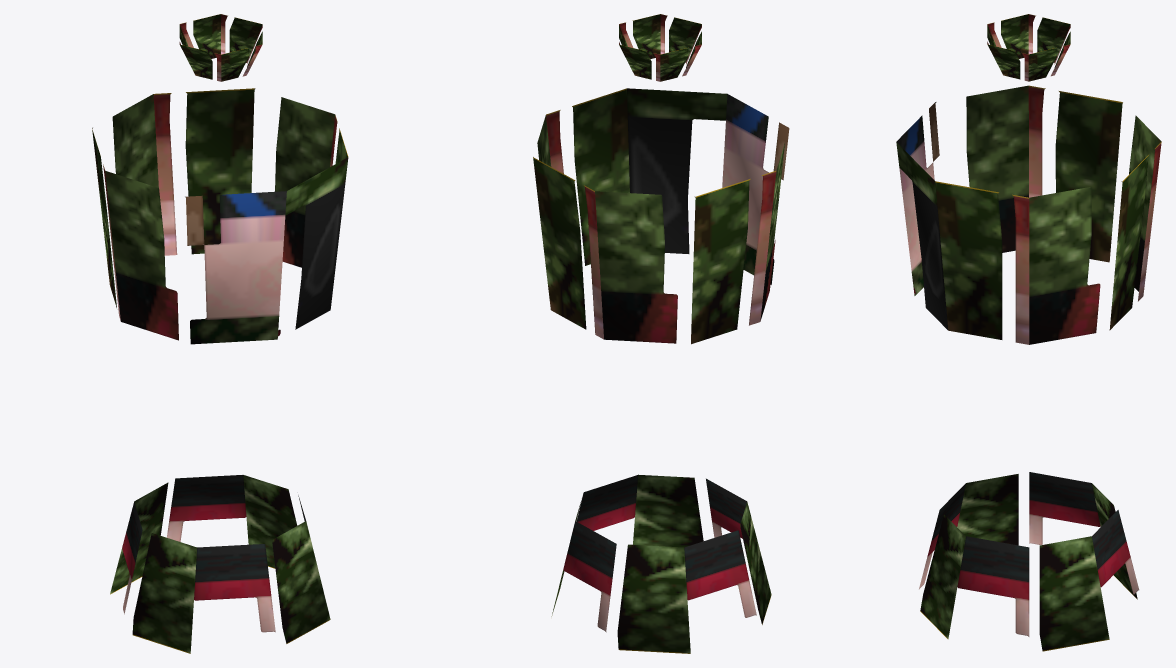
The picture shows the model from 3 angles, left to right: view 1: azimuth 30°, elevation 25°; view 2: azimuth 150°, elevation 25°; view 3: azimuth 270°, elevation 25°; orthographic projection.
Visible parts, largest first — view 1: T1L9M005_28; view 2: T1L9M005_28; view 3: T1L9M005_28.
Part boxes in pixels (box(x1,y1,x2,y2)): T1L9M005_28: box(92, 14, 348, 653); T1L9M005_28: box(533, 14, 789, 653); T1L9M005_28: box(896, 14, 1161, 651).
Bounding box in the file's own units: 0.9521 × 1.31 × 0.5381.
